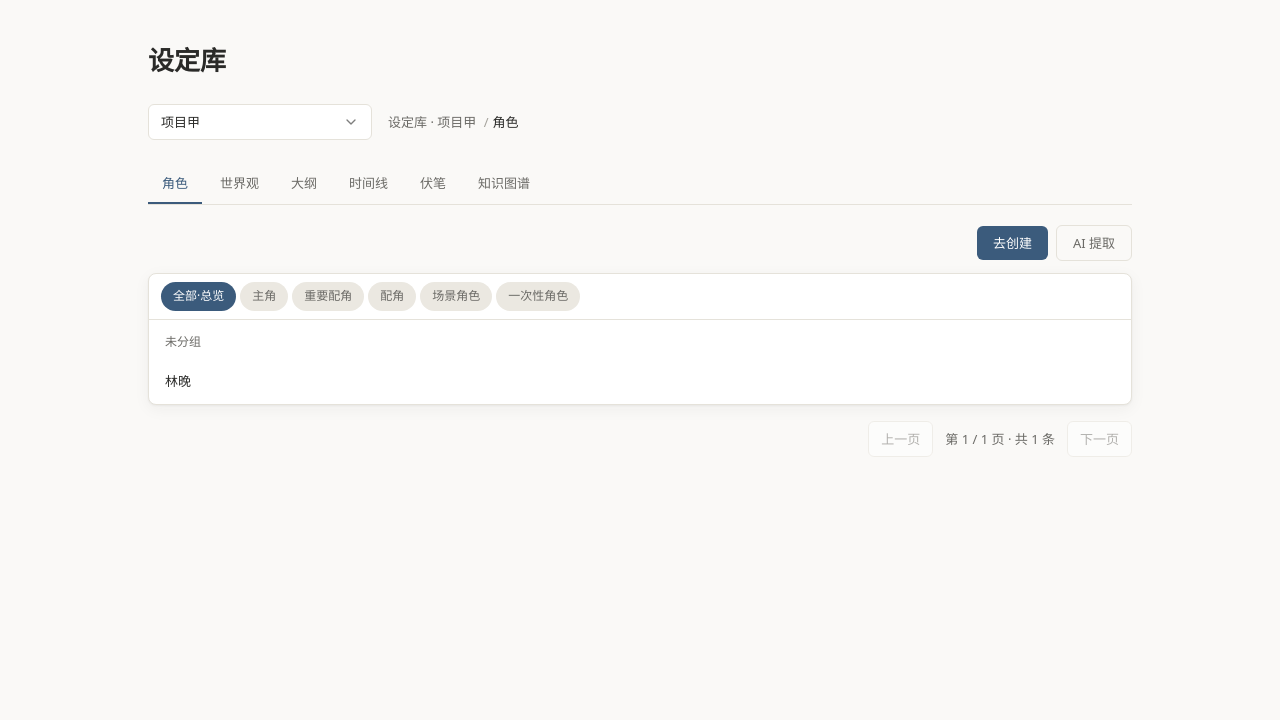
it: 设定库页 — 「AI 提取」入口（#652） › 契约3（#1566）：默认类型随来源页——角色页打开是「角色」，切到时间线页重开是「时间线」
Expected: the element with test id "library-list" is shown, [148, 273, 1132, 405]
// 默认分类（角色）→ 「角色」
What coordinates should you click on to do the following:
click the button with test id "extract-entry-lib"
I would click on:
 (1094, 243)
Its box is [1056, 225, 1132, 261].
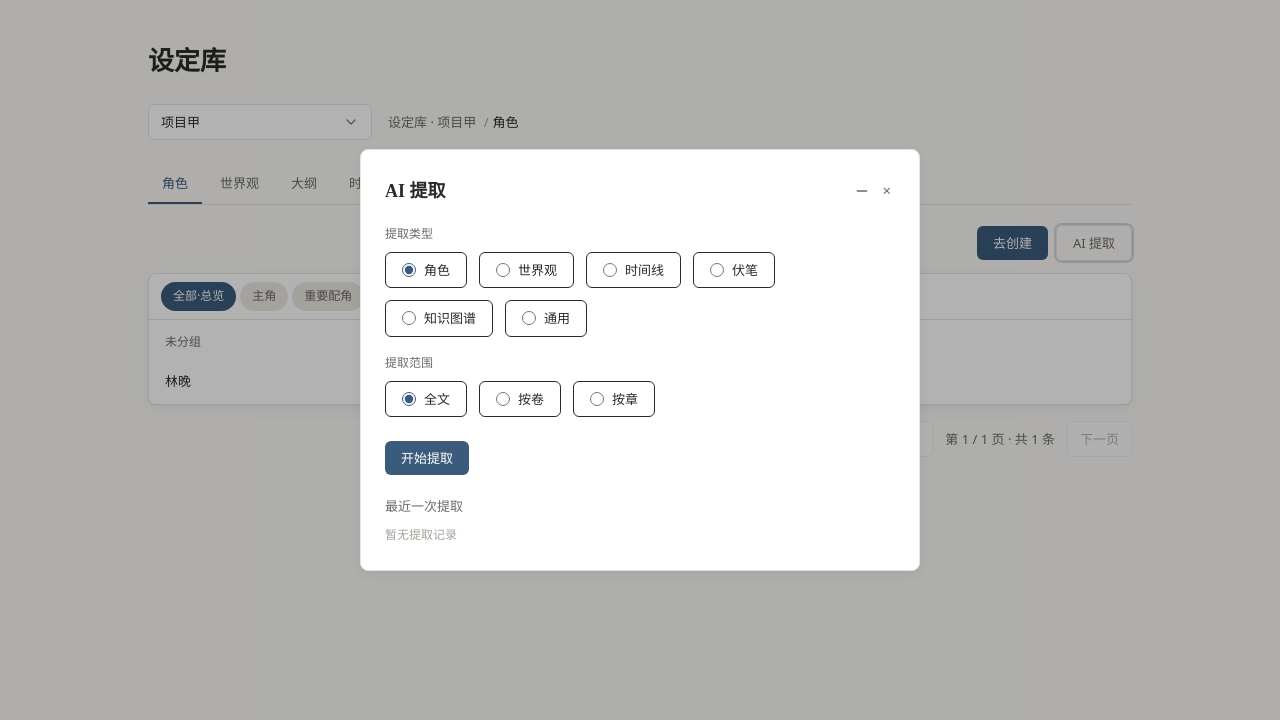
Expected: the radio button labelled "角色" is checked, [402, 263, 416, 277]
What coordinates should you click on to do the following:
click the button named "关闭"
I would click on:
 (887, 191)
Its box is [878, 174, 895, 208].
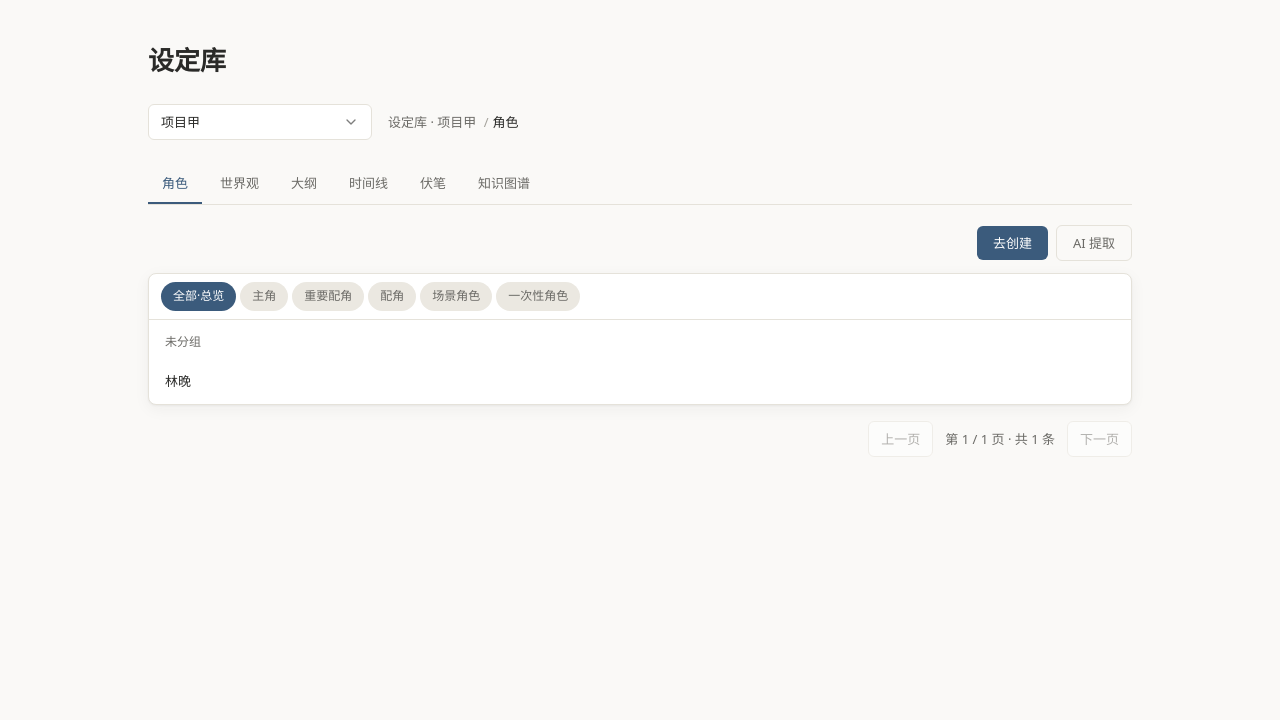
// 切到时间线分类（同一 AIExtractEntry 实例）→ 重开 → 「时间线」
What coordinates should you click on to do the following:
click the tab "时间线"
I would click on:
 (368, 184)
Its box is [335, 164, 402, 204].
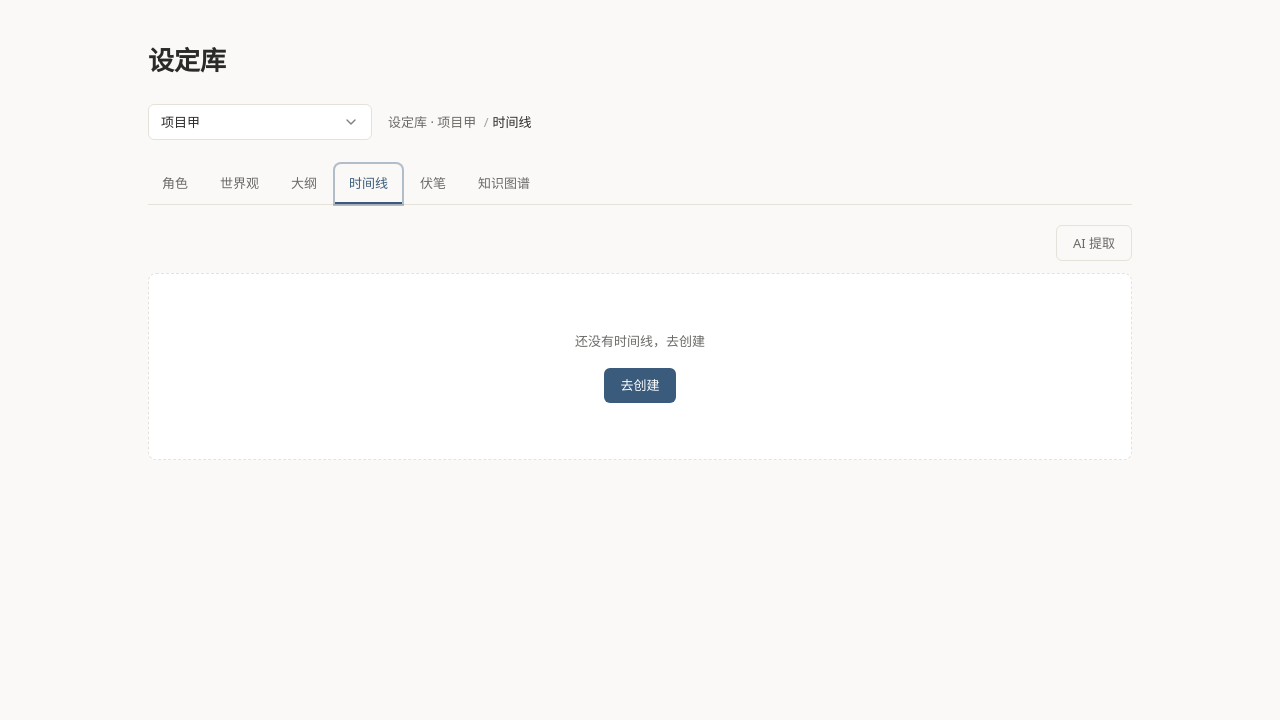
What coordinates should you click on to do the following:
click the button with test id "extract-entry-lib"
I would click on:
 (1094, 243)
Its box is [1056, 225, 1132, 261].
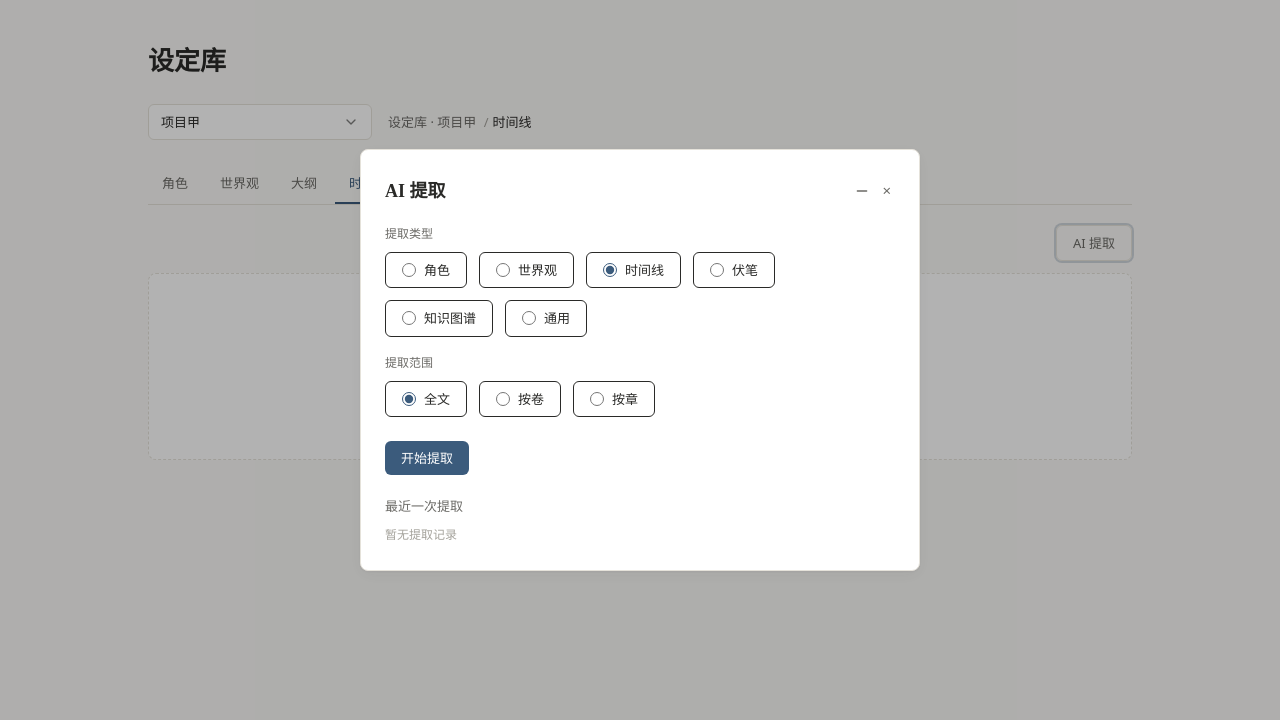
Expected: the radio button labelled "时间线" is checked, [603, 263, 617, 277]
